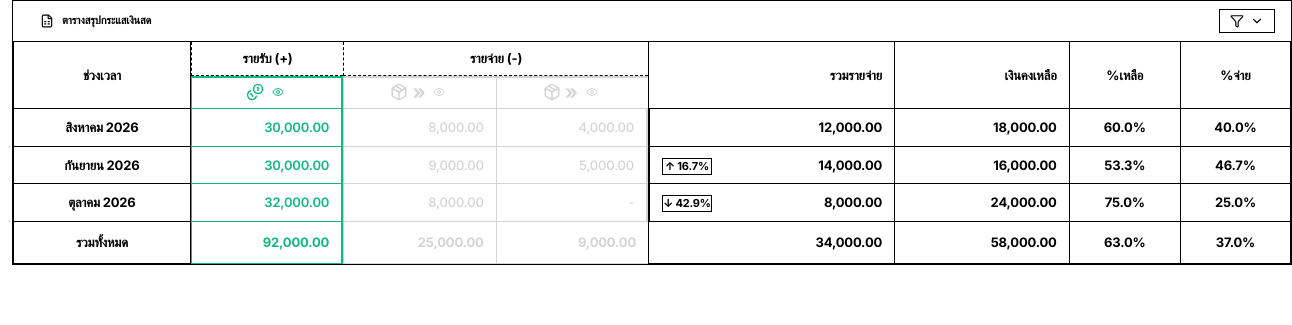
Test case: CashflowTable — hiding WANT / NEED / SAVINGS › the filter bar is closed until asked for
Click the button named "เปิด/ปิด ตัวกรองการจัดสรร": (1247, 21) [1219,9,1275,33]
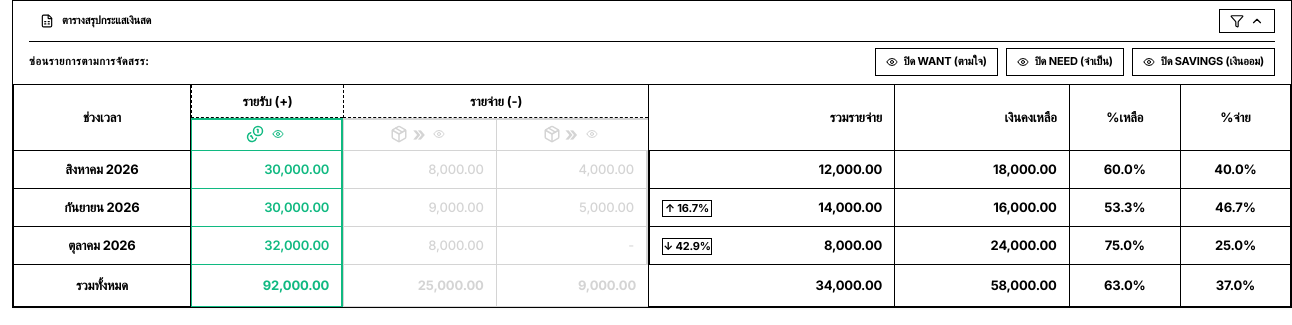
Expected: the button "ปิด WANT (ตามใจ)" is shown, [874,48,998,76]
Expected: the button "ปิด NEED (จำเป็น)" is shown, [1006,48,1124,76]
Expected: the button "ปิด SAVINGS (เงินออม)" is shown, [1132,48,1275,76]
